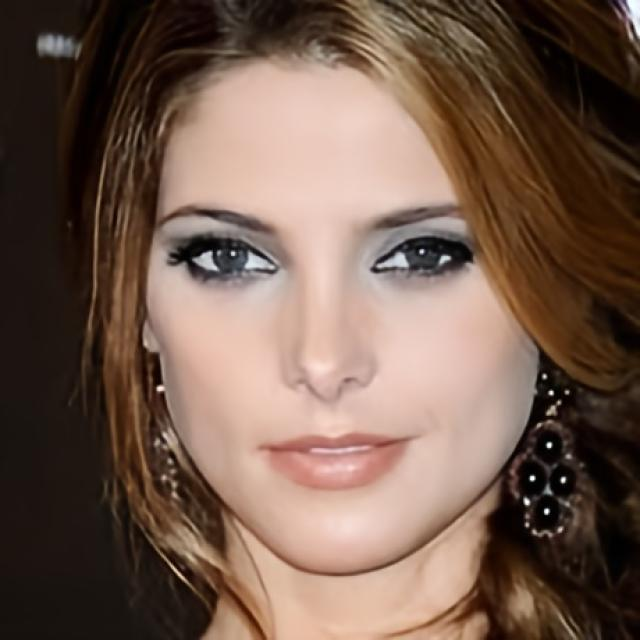content: (146, 44, 549, 578)
